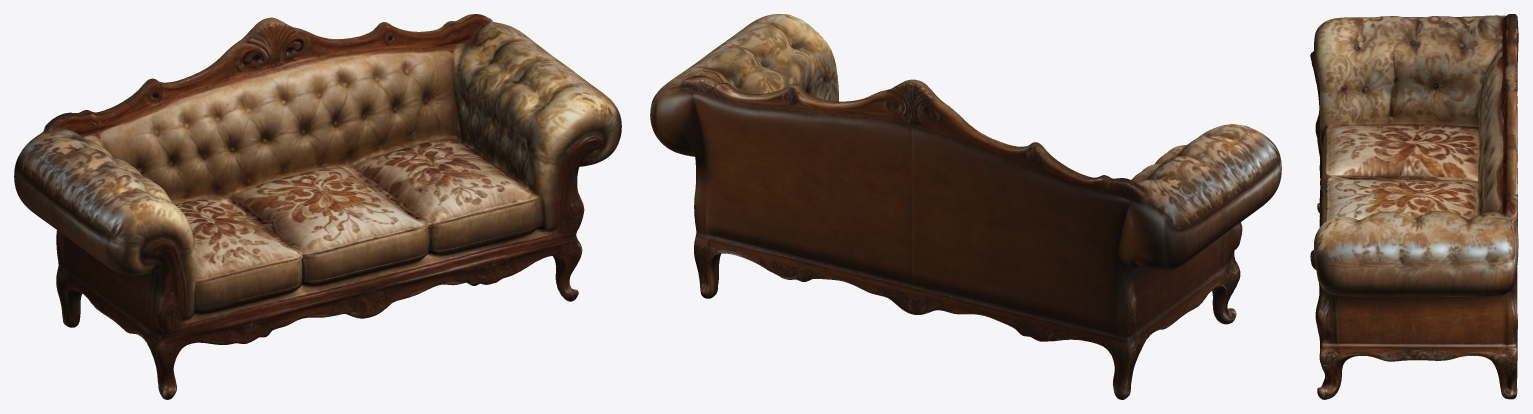
The model's file is Sofa_3seats_0228110804_texture.obj.
The picture shows the model from 3 angles, left to right: view 1: azimuth 30°, elevation 25°; view 2: azimuth 150°, elevation 25°; view 3: azimuth 270°, elevation 25°; orthographic projection. The views are drawn at different scales.
Parts seen in each view (by area): view 1: Mesh_0; view 2: Mesh_0; view 3: Mesh_0.
Boxes of the visible parts, left/top/right/bottom form: Mesh_0: left=14, top=14, right=621, bottom=399; Mesh_0: left=650, top=14, right=1281, bottom=399; Mesh_0: left=1310, top=14, right=1518, bottom=399.
Bounding box in the file's own units: 200 × 95.87 × 74.95.
